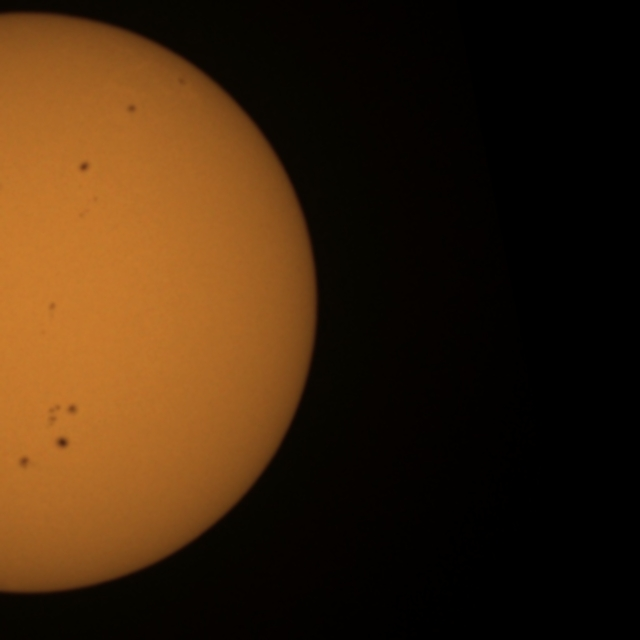sunspot: (46, 402, 80, 429), (46, 420, 72, 454), (53, 434, 71, 452), (17, 454, 32, 471), (77, 160, 91, 175), (77, 208, 91, 221), (125, 103, 139, 116), (47, 300, 58, 316), (176, 75, 187, 88)
